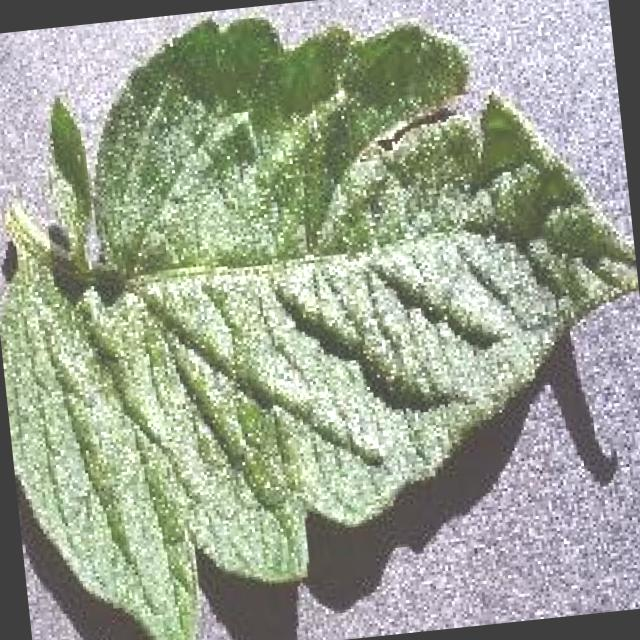healthy: (0, 10, 638, 640)
